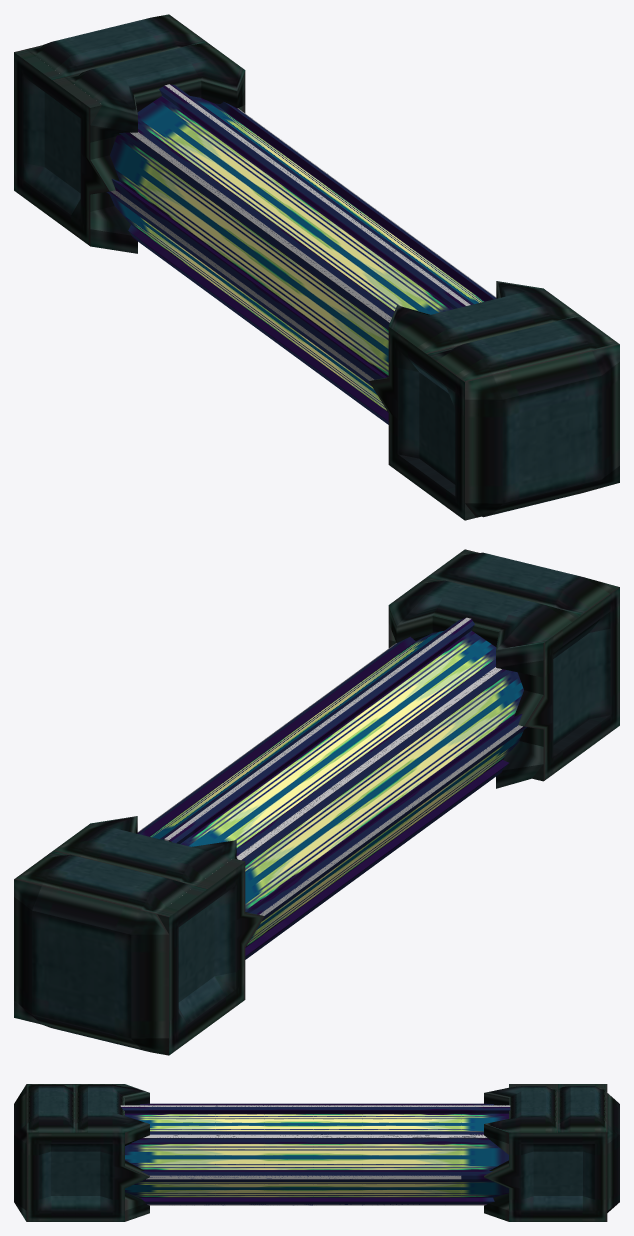
The model's file is ourtland_lamp00.fbx.
3 views of the same model, one above another, from view 1: azimuth 30°, elevation 25°; view 2: azimuth 150°, elevation 25°; view 3: azimuth 270°, elevation 25° (orthographic). The views are drawn at different scales.
Visible parts, largest first — view 1: Cube.001; view 2: Cube.001; view 3: Cube.001.
Part boxes in pixels (x1,y1,x2,y2): Cube.001: (14,14,619,520); Cube.001: (14,549,619,1055); Cube.001: (14,1084,619,1221).
Bounding box in the file's own units: 23.45 × 23.04 × 123.
Materials: 2 (2 with a texture image).
